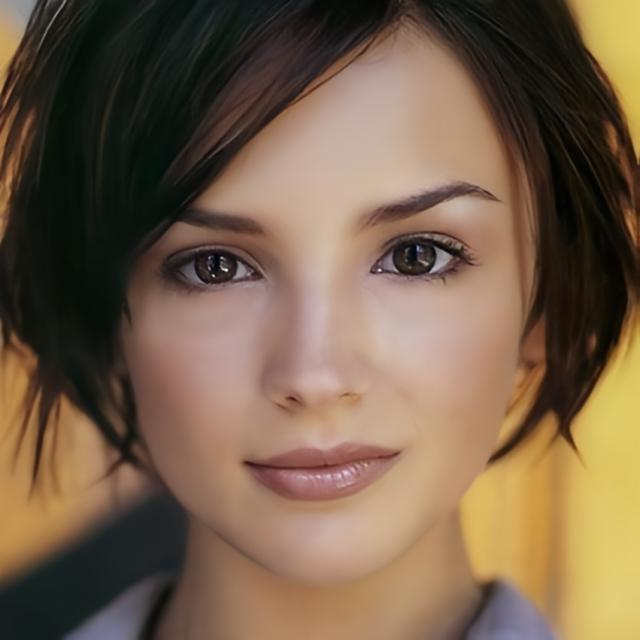content: (121, 33, 524, 579)
